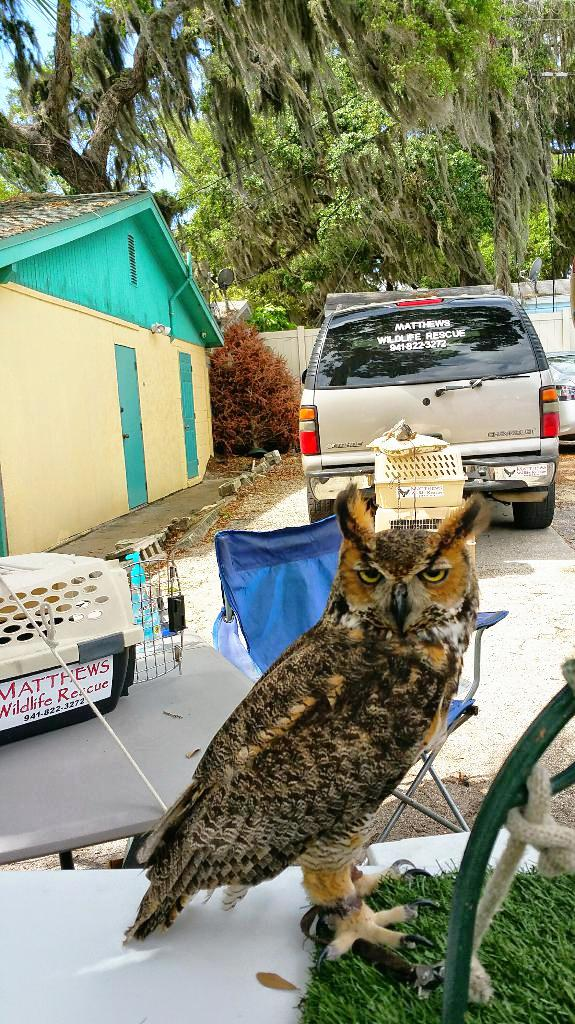Owl: (114, 474, 487, 990)
